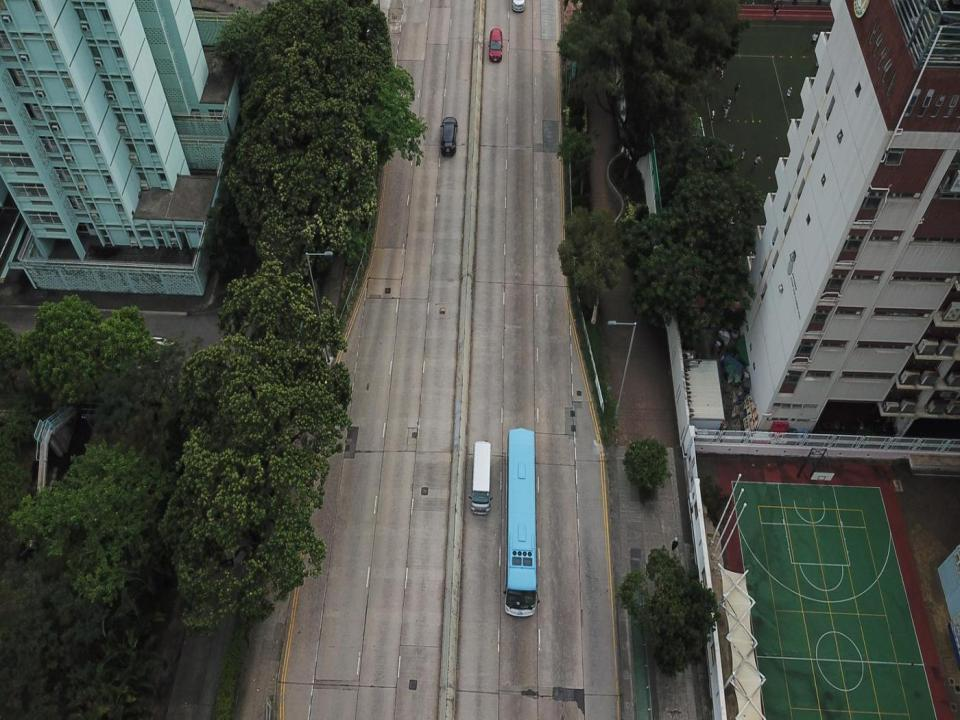bus: (504, 428, 538, 618)
car: (440, 118, 458, 156), (489, 28, 504, 62)
truck: (471, 441, 492, 514)
